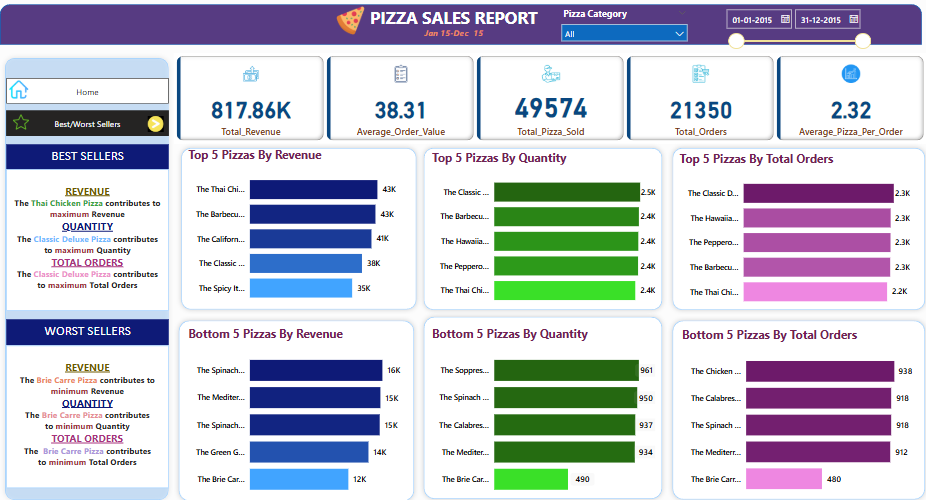

This screenshot's page, from the dashboard's own definition file:
{"tool":"powerbi","page":{"name":"Best/Worst Sellers","canvas":[1500,820],"ordinal":1},"visuals":[{"type":"cardVisual","fields":{"Data":["pizza_sales.Total_Revenue","pizza_sales.Average_Order_Value","pizza_sales.Total_Pizza_Sold","pizza_sales.Total_Orders","pizza_sales.Average_Pizza_Per_Order"]},"box":[277.7,95.1,1209.6,145.4],"z":0},{"type":"shape","box":[0,17.5,1475,65],"z":1000},{"type":"textbox","box":[564,16,324,68],"z":2000},{"type":"textbox","box":[670,50,112,44],"z":3000},{"type":"image","box":[528,16,66,56],"z":4000},{"type":"shape","box":[281.1,240,392.2,274.4],"z":5000},{"type":"shape","box":[0,95.2,277.7,723.5],"z":15000},{"type":"textbox","box":[9.5,241.2,260.2,41.3],"z":16000},{"type":"textbox","box":[10,282.2,260,226.7],"z":17000},{"type":"textbox","box":[9.5,522,260.2,41.3],"z":18000},{"type":"textbox","box":[10,563.3,260,227.8],"z":19000},{"type":"slicer","fields":{"Values":["pizza_sales.pizza_category"]},"box":[888,18,222,66],"z":20000},{"type":"slicer","fields":{"Values":["pizza_sales.order_date"]},"box":[1150,16,252,80],"z":21000},{"type":"shape","box":[670,240,397.5,275],"z":21001},{"type":"shape","box":[1067.5,240,420,275],"z":21002},{"type":"shape","box":[277.5,515,392.5,305],"z":21003},{"type":"shape","box":[670,510,397.5,307.5],"z":21004},{"type":"shape","box":[1067.5,515,420,302.5],"z":21005},{"type":"barChart","title":"Top 5 Pizzas By Revenue","fields":{"Category":["pizza_sales.pizza_name"],"Y":["pizza_sales.Total_Revenue"]},"box":[295.6,245.6,363.3,263.3],"z":21006},{"type":"barChart","title":"Bottom 5 Pizzas By Revenue","fields":{"Category":["pizza_sales.pizza_name"],"Y":["pizza_sales.Total_Revenue"]},"box":[295.6,531.1,363.3,286.7],"z":21007},{"type":"barChart","title":"Top 5 Pizzas By Quantity","fields":{"Category":["pizza_sales.pizza_name"],"Y":["pizza_sales.Total_Pizza_Sold"]},"box":[686.7,250,367.8,263.3],"z":21008},{"type":"barChart","title":"Bottom 5 Pizzas By Quantity","fields":{"Category":["pizza_sales.pizza_name"],"Y":["pizza_sales.Total_Pizza_Sold"]},"box":[686.7,531.1,367.8,286.7],"z":21009},{"type":"barChart","title":"Top 5 Pizzas By Total Orders","fields":{"Category":["pizza_sales.pizza_name"],"Y":["pizza_sales.Total_Orders"]},"box":[1081.1,252.2,378.9,263.3],"z":21010},{"type":"barChart","title":"Bottom 5 Pizzas By Total Orders","fields":{"Category":["pizza_sales.pizza_name"],"Y":["pizza_sales.Total_Orders"]},"box":[1086.7,534.4,378.9,283.3],"z":21011},{"type":"pageNavigator","box":[10,187,260,41],"z":21012},{"type":"pageNavigator","box":[9,135,260,41],"z":21013},{"type":"image","box":[230,191,39,35],"z":21014},{"type":"image","box":[10,131,40,45],"z":21015},{"type":"image","box":[15,187,35,37],"z":21016}]}

Visuals, with their boxes in screenshot pixels (x1, y1, x2, y2), scaled from the page's 1500x820 canvas onto the 926x500 screenshot:
cardVisual - pizza_sales.Total_Revenue x pizza_sales.Average_Order_Value: <region>171, 58, 918, 147</region>
shape: <region>0, 11, 911, 50</region>
textbox: <region>348, 10, 548, 51</region>
textbox: <region>414, 30, 483, 57</region>
image: <region>326, 10, 367, 44</region>
shape: <region>174, 146, 416, 314</region>
shape: <region>0, 58, 171, 499</region>
textbox: <region>6, 147, 166, 172</region>
textbox: <region>6, 172, 167, 310</region>
textbox: <region>6, 318, 166, 343</region>
textbox: <region>6, 343, 167, 482</region>
slicer - pizza_sales.pizza_category: <region>548, 11, 685, 51</region>
slicer - pizza_sales.order_date: <region>710, 10, 866, 59</region>
shape: <region>414, 146, 659, 314</region>
shape: <region>659, 146, 918, 314</region>
shape: <region>171, 314, 414, 499</region>
shape: <region>414, 311, 659, 498</region>
shape: <region>659, 314, 918, 498</region>
"Top 5 Pizzas By Revenue" barChart: <region>182, 150, 407, 310</region>
"Bottom 5 Pizzas By Revenue" barChart: <region>182, 324, 407, 499</region>
"Top 5 Pizzas By Quantity" barChart: <region>424, 152, 651, 313</region>
"Bottom 5 Pizzas By Quantity" barChart: <region>424, 324, 651, 499</region>
"Top 5 Pizzas By Total Orders" barChart: <region>667, 154, 901, 314</region>
"Bottom 5 Pizzas By Total Orders" barChart: <region>671, 326, 905, 499</region>
pageNavigator: <region>6, 114, 167, 139</region>
pageNavigator: <region>6, 82, 166, 107</region>
image: <region>142, 116, 166, 138</region>
image: <region>6, 80, 31, 107</region>
image: <region>9, 114, 31, 137</region>
